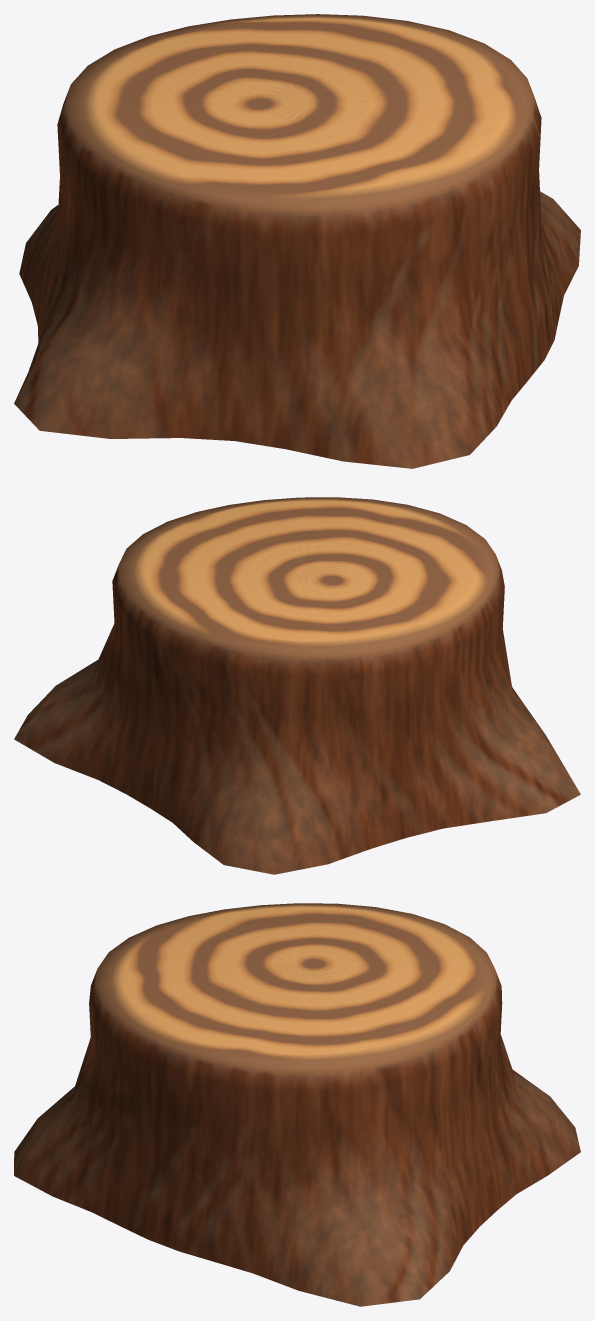
File: tree_stump.glb
3 views of the same model, one above another, from view 1: azimuth 30°, elevation 25°; view 2: azimuth 150°, elevation 25°; view 3: azimuth 270°, elevation 25° (orthographic). The views are drawn at different scales.
Parts seen in each view (by area): view 1: tree_stump; view 2: tree_stump; view 3: tree_stump.
Part boxes in pixels (x1,y1,x2,y2): tree_stump: [14, 14, 580, 468]; tree_stump: [14, 497, 580, 874]; tree_stump: [14, 903, 580, 1306].
Size of the model in its own units: 1.24 by 0.448 by 1.16.
Materials: 1 (1 with a texture image).
